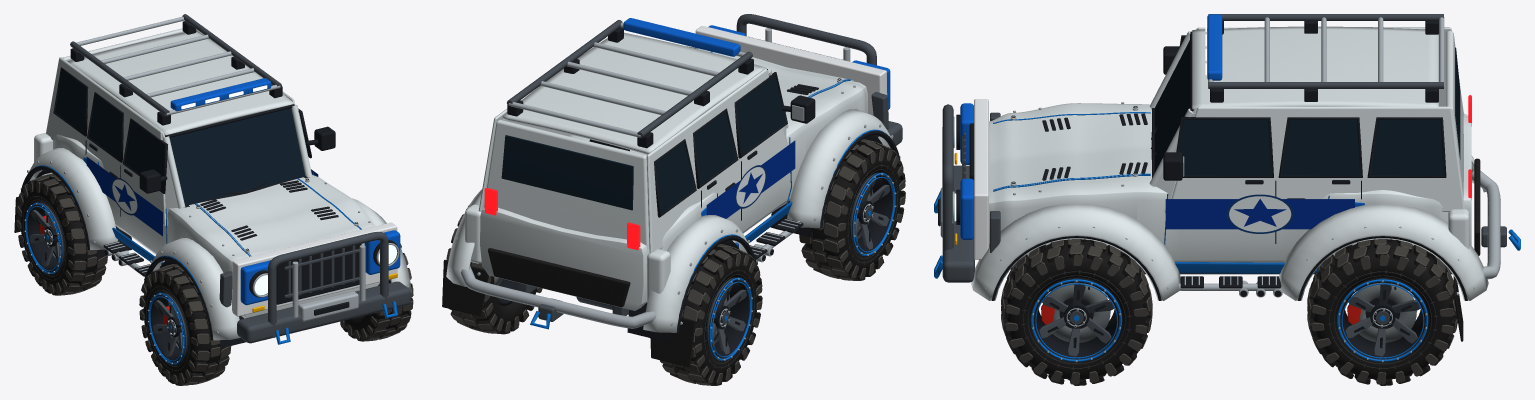
Rendered from 16_patrol_suv.glb.
3 renders of one model, left to right at view 1: azimuth 30°, elevation 25°; view 2: azimuth 150°, elevation 25°; view 3: azimuth 270°, elevation 25°, orthographic. The views are drawn at different scales.
Parts seen in each view (by area): view 1: Buggy_Static_Body, Wheel_RL_Geometry, Wheel_FL_Geometry, Wheel_FR_Geometry; view 2: Buggy_Static_Body, Wheel_FL_Geometry, Wheel_RL_Geometry, Wheel_RR_Geometry; view 3: Buggy_Static_Body, Wheel_FR_Geometry, Wheel_RR_Geometry.
Part boxes in pixels (x1=…): Buggy_Static_Body: x1=14, y1=14, x2=411, y2=348; Wheel_RL_Geometry: x1=16, y1=173, x2=107, y2=295; Wheel_FL_Geometry: x1=139, y1=264, x2=231, y2=385; Wheel_FR_Geometry: x1=340, y1=243, x2=413, y2=341; Buggy_Static_Body: x1=442, y1=14, x2=902, y2=367; Wheel_FL_Geometry: x1=799, y1=139, x2=905, y2=280; Wheel_RL_Geometry: x1=660, y1=244, x2=762, y2=385; Wheel_RR_Geometry: x1=446, y1=205, x2=542, y2=334; Buggy_Static_Body: x1=934, y1=14, x2=1520, y2=341; Wheel_FR_Geometry: x1=1001, y1=239, x2=1152, y2=385; Wheel_RR_Geometry: x1=1307, y1=239, x2=1457, y2=385.
Size of the model in its own units: 2.99 by 2.89 by 5.48.
24 materials, 4 textured.
